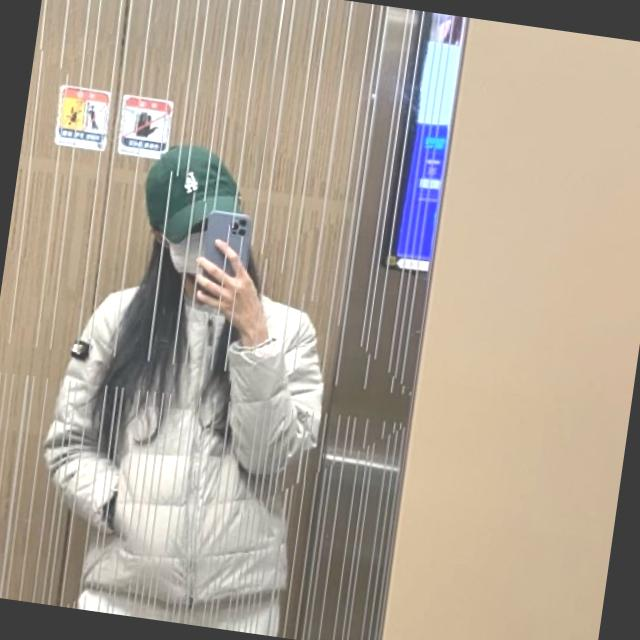padding: (28, 260, 335, 616)
trainingpants: (75, 566, 286, 638)
